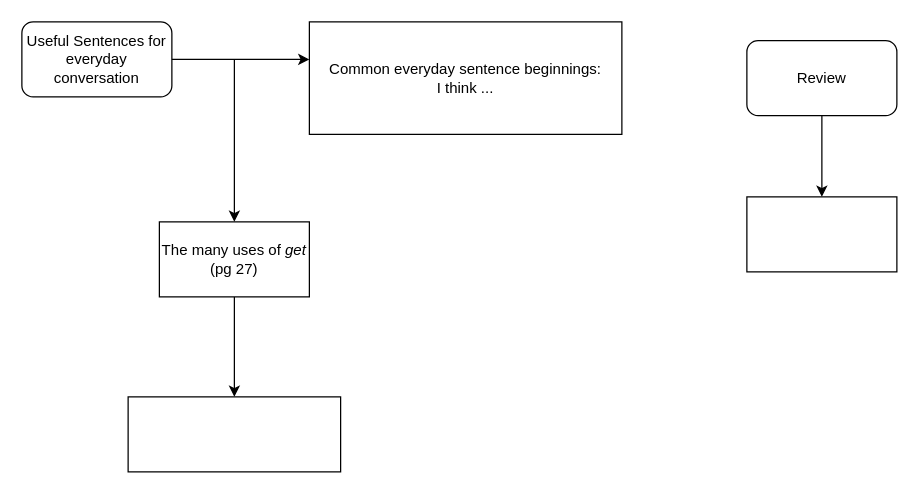
Some shapes in this 919 by 494 pixel diagram are drawn without their labels. The shapes that lost their labels are listed below. From the top down, each one's centre as x and y in pixels, then its label:
At (821,234): "Adverbs of Manner (pg. 25)".
At (234,434): "Agreement/Disagreement phrases (pg 26)".
